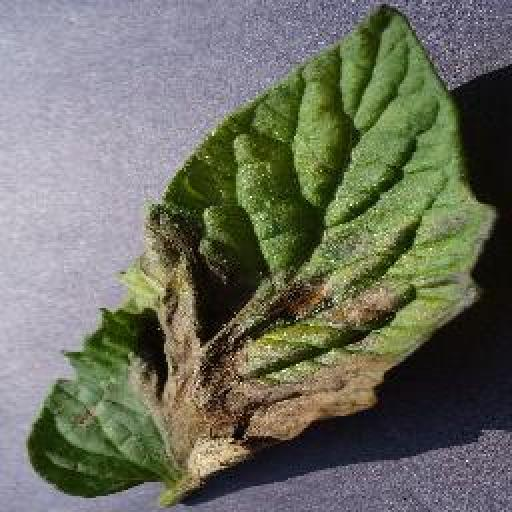Late Blight: (22, 2, 494, 498)
